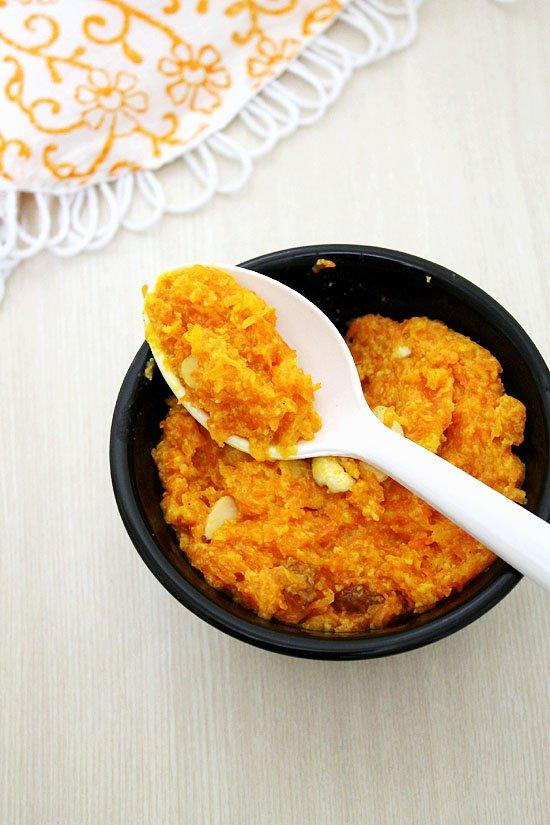Gajar ka halwa: (129, 227, 550, 664)
